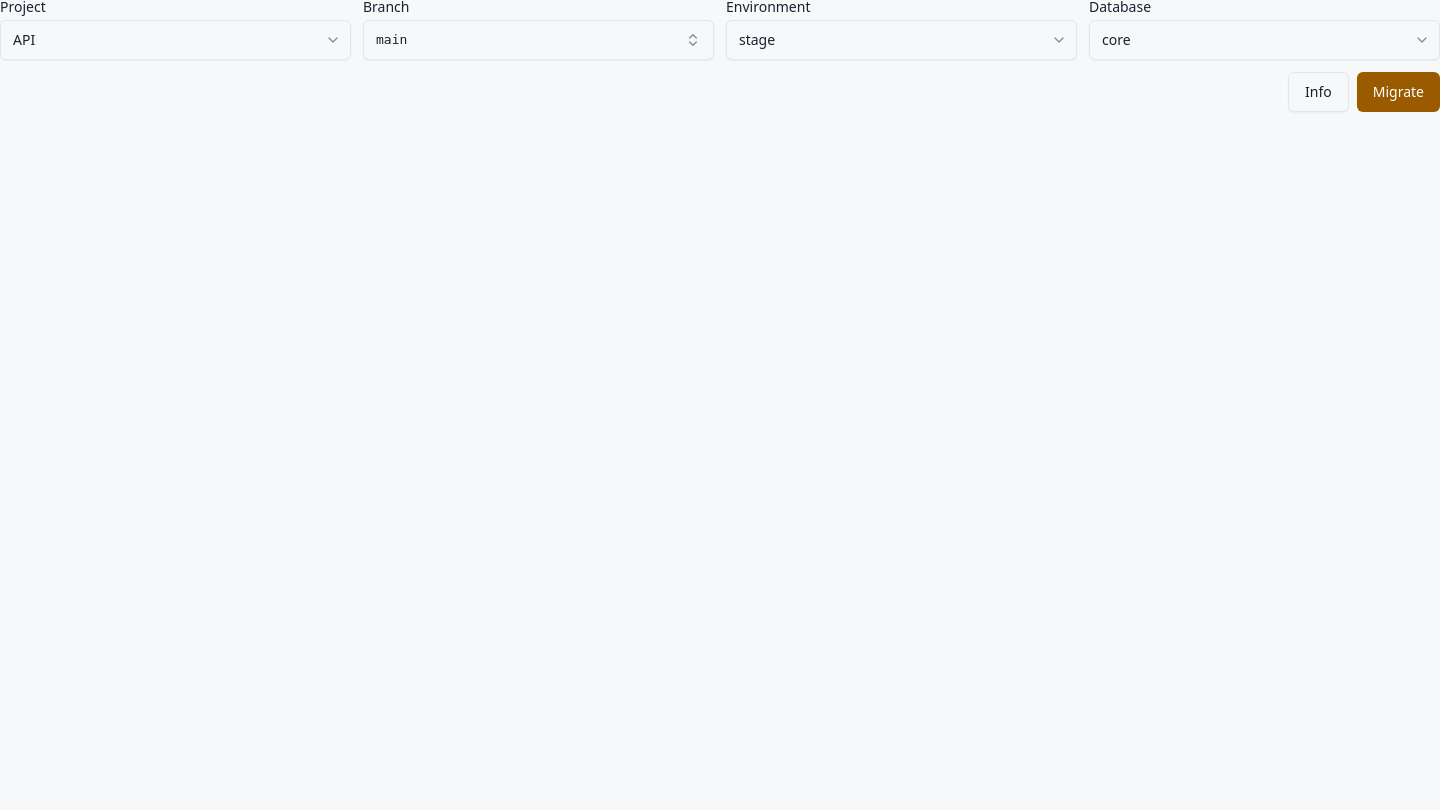
Scenario: MigrationForm › keeps the chosen branch when the branch list refreshes (cubic #10)
This screenshot has width=1440, height=810.
What coordinates should you click on to do the following:
click the dropdown named "Branch"
I would click on:
 (392, 40)
Its box is [363,20,714,60].
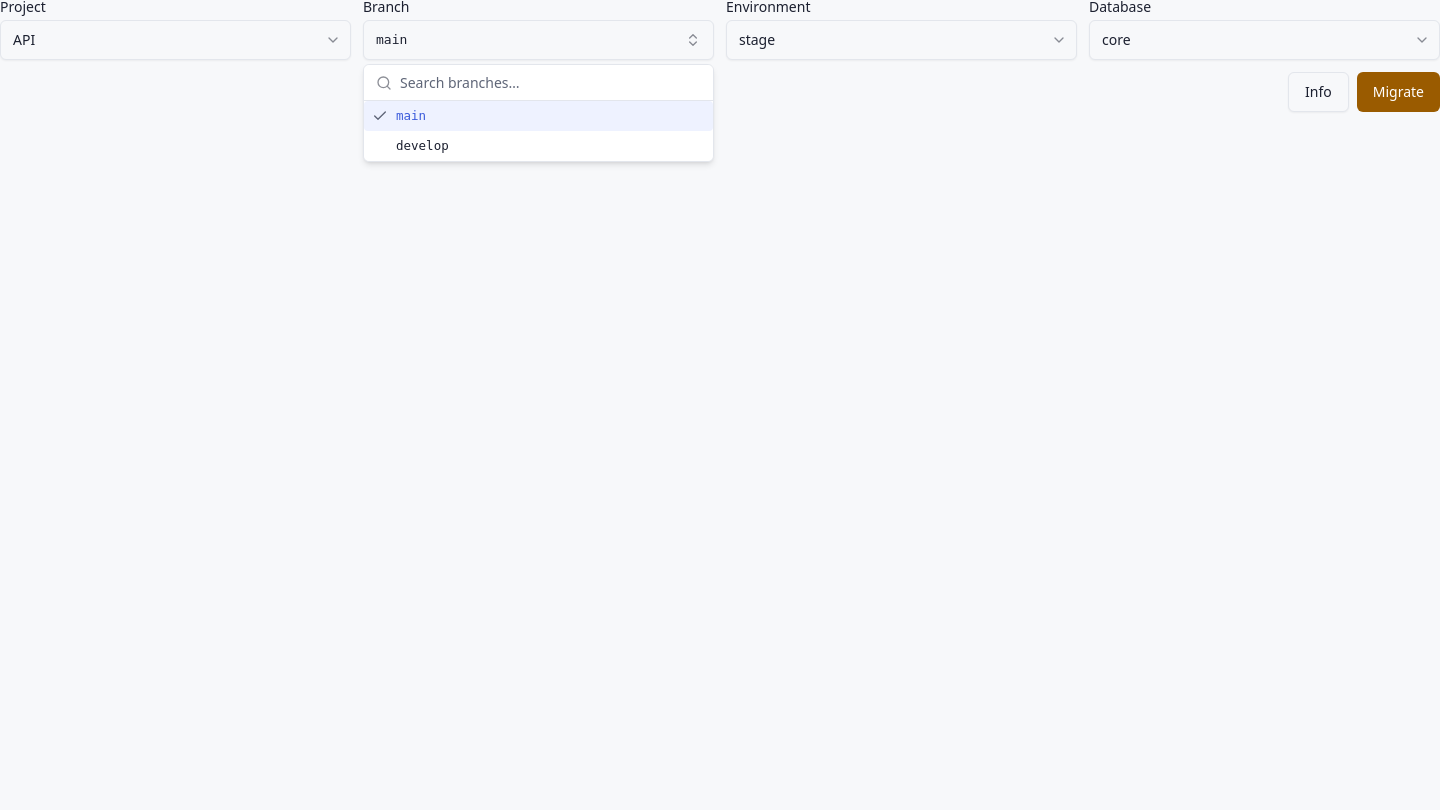
What coordinates should you click on to do the following:
click the option "develop"
I would click on:
 (422, 145)
Its box is [396,138,449,153].
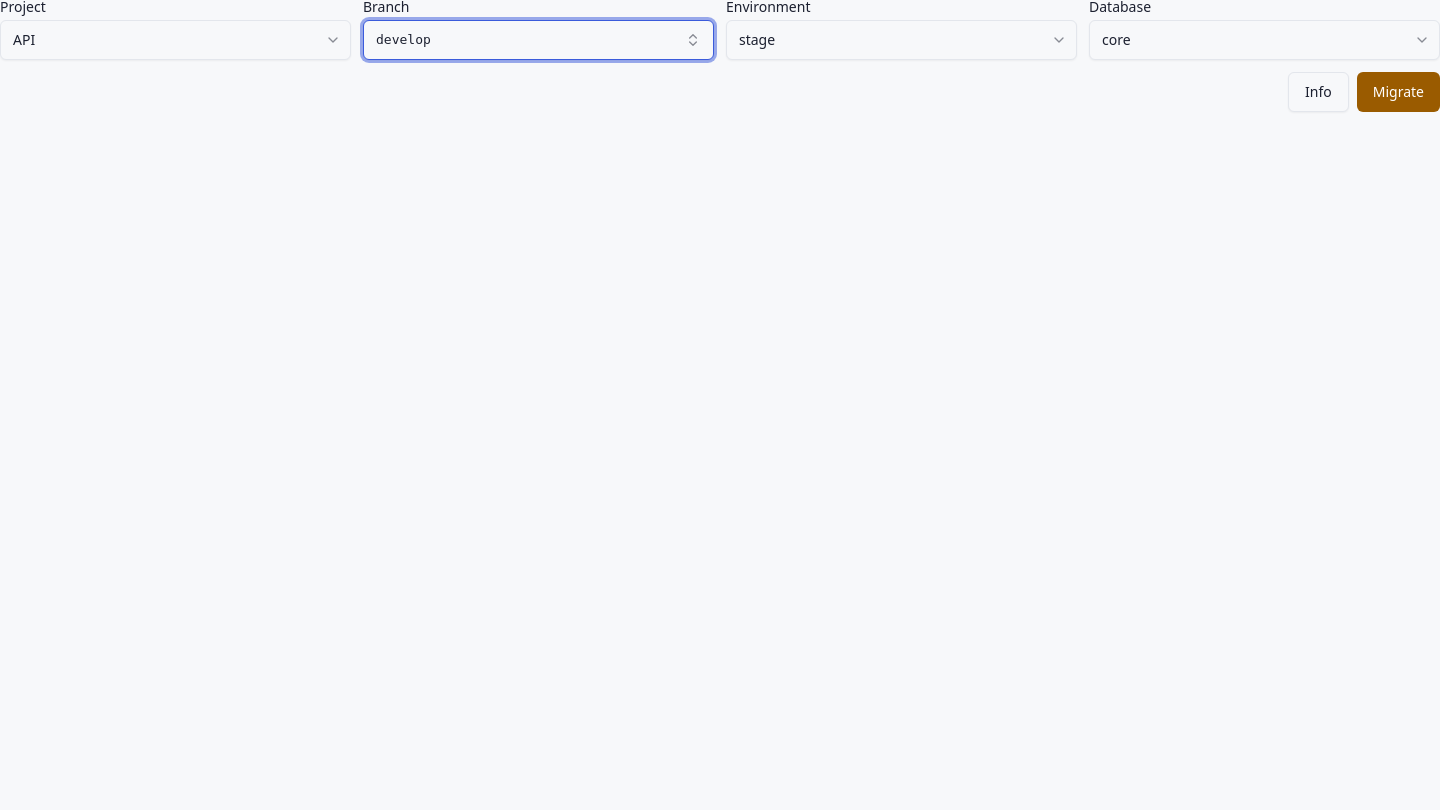
Expected: the dropdown named "Branch" reads "develop", [363,20,714,60]
